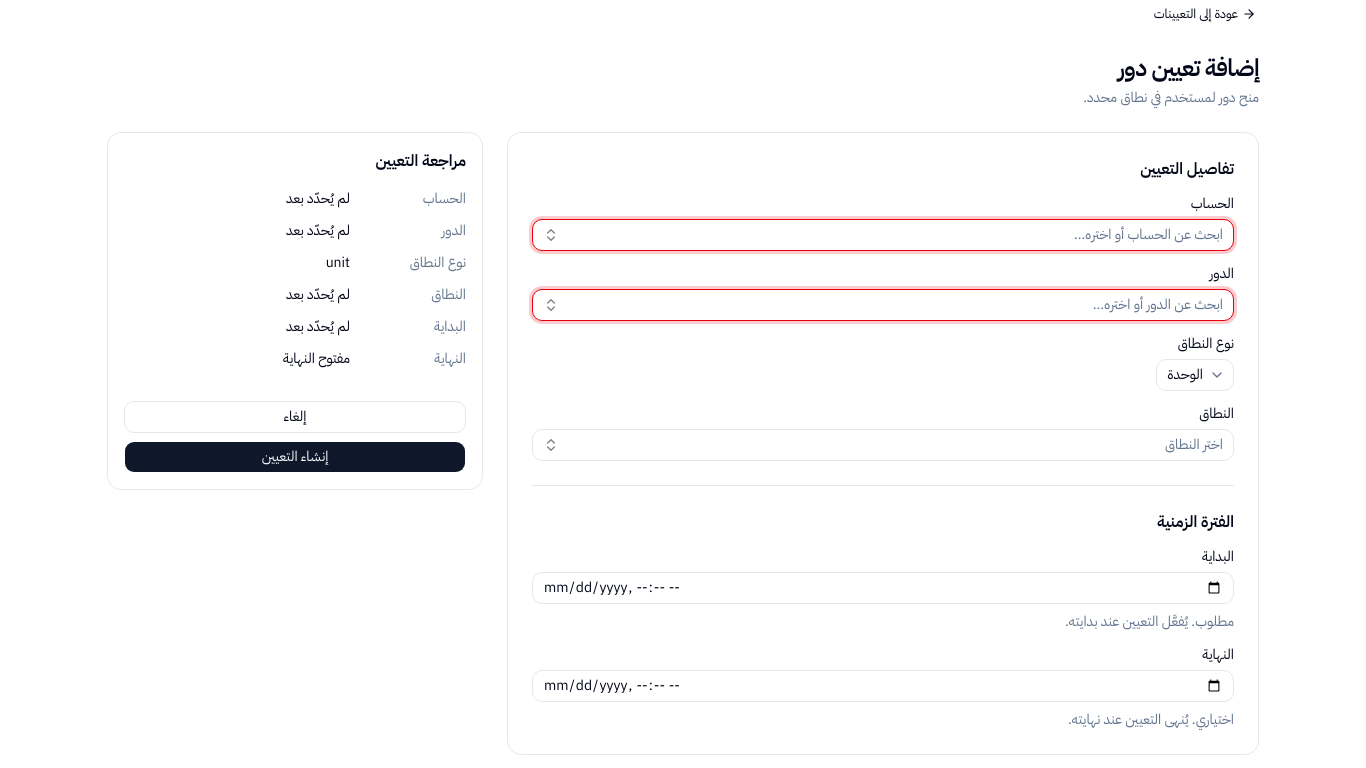
Test case: cursor-paginated creation pickers › wires the assignment account picker cursor into listAccounts
Click the button with aria-label "قائمة الحسابات" at (1148, 234), box [532,219,1234,251]
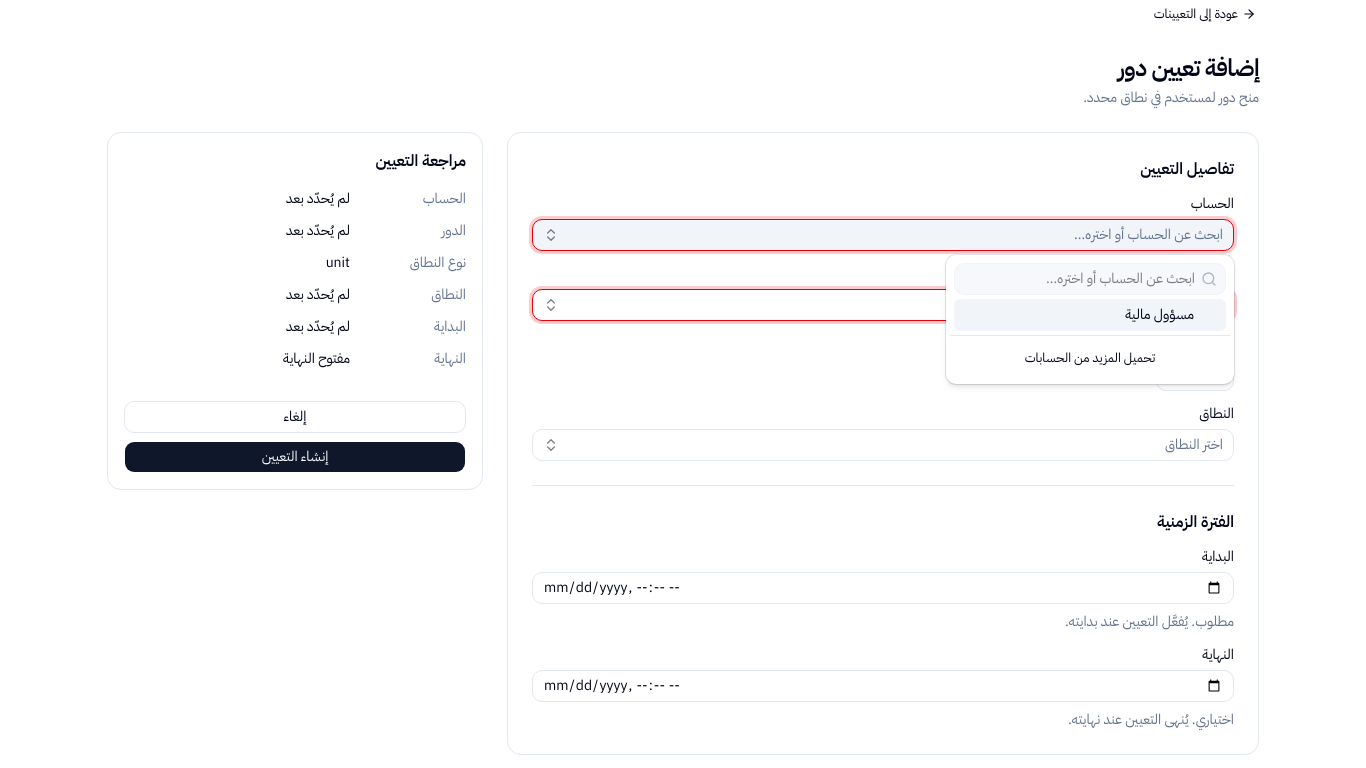
expect the option "مسؤول مالية" is shown: met, box [954,299,1226,331]
Load more forwards the returned cursor to the catalog loader.
Click the button "تحميل المزيد من الحسابات" at (1090, 358), box [958,344,1222,372]
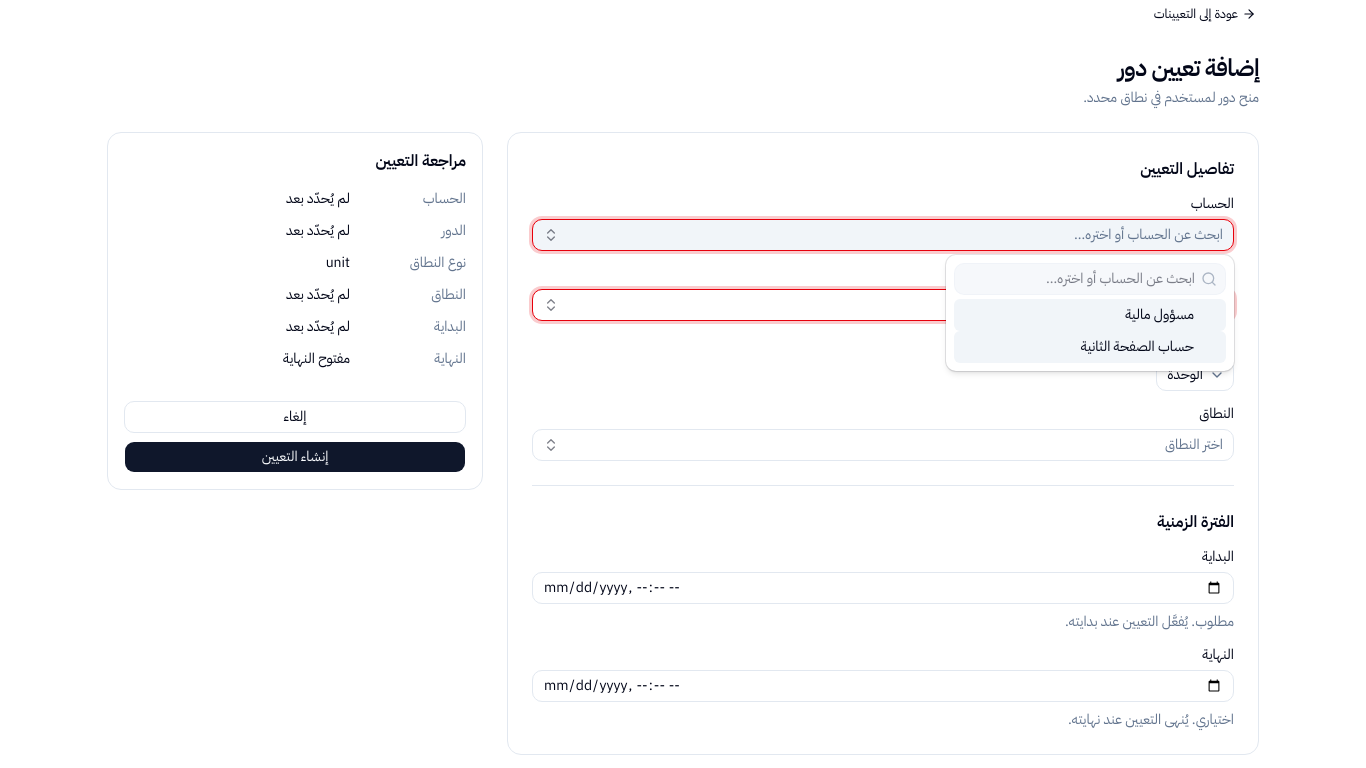
expect the option "حساب الصفحة الثانية" is shown: met, box [954,331,1226,363]
